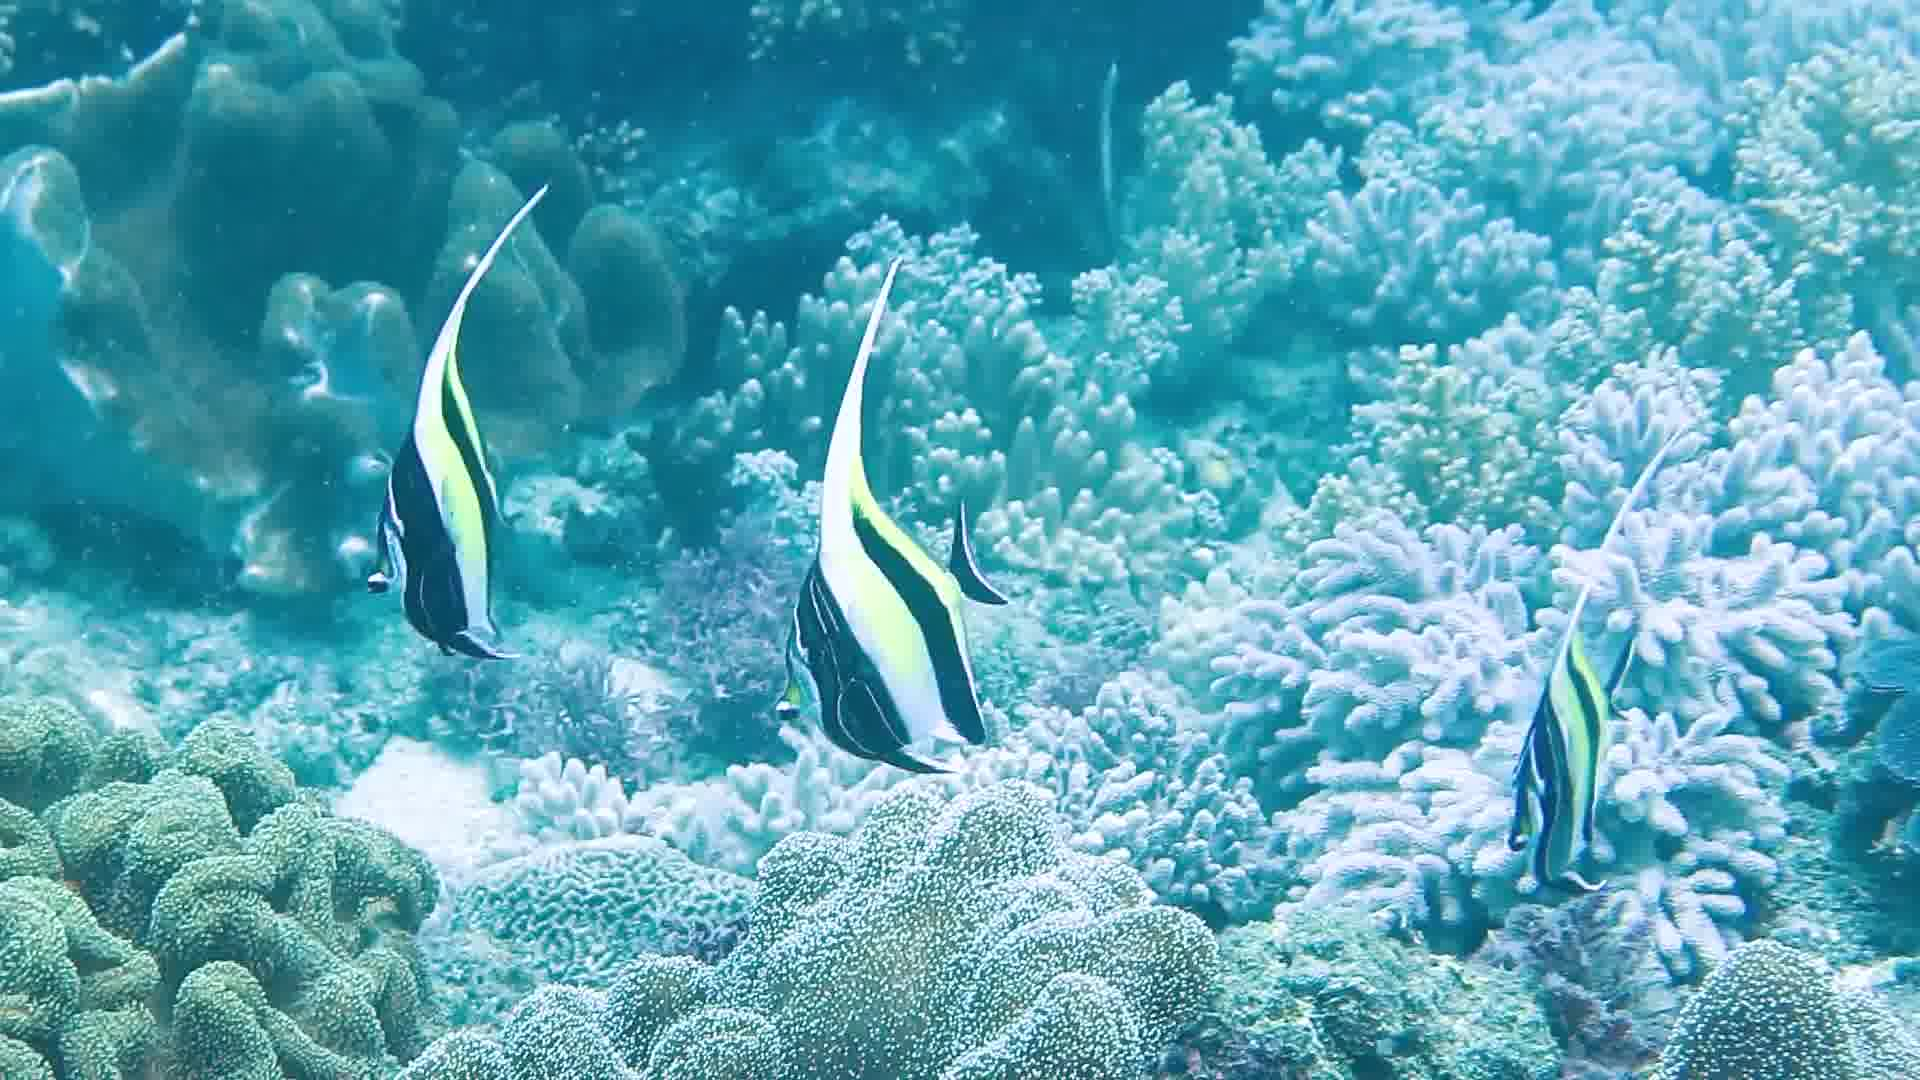Zanclus cornutus: (727, 487, 1039, 771), (357, 330, 575, 673), (1453, 658, 1640, 898)
